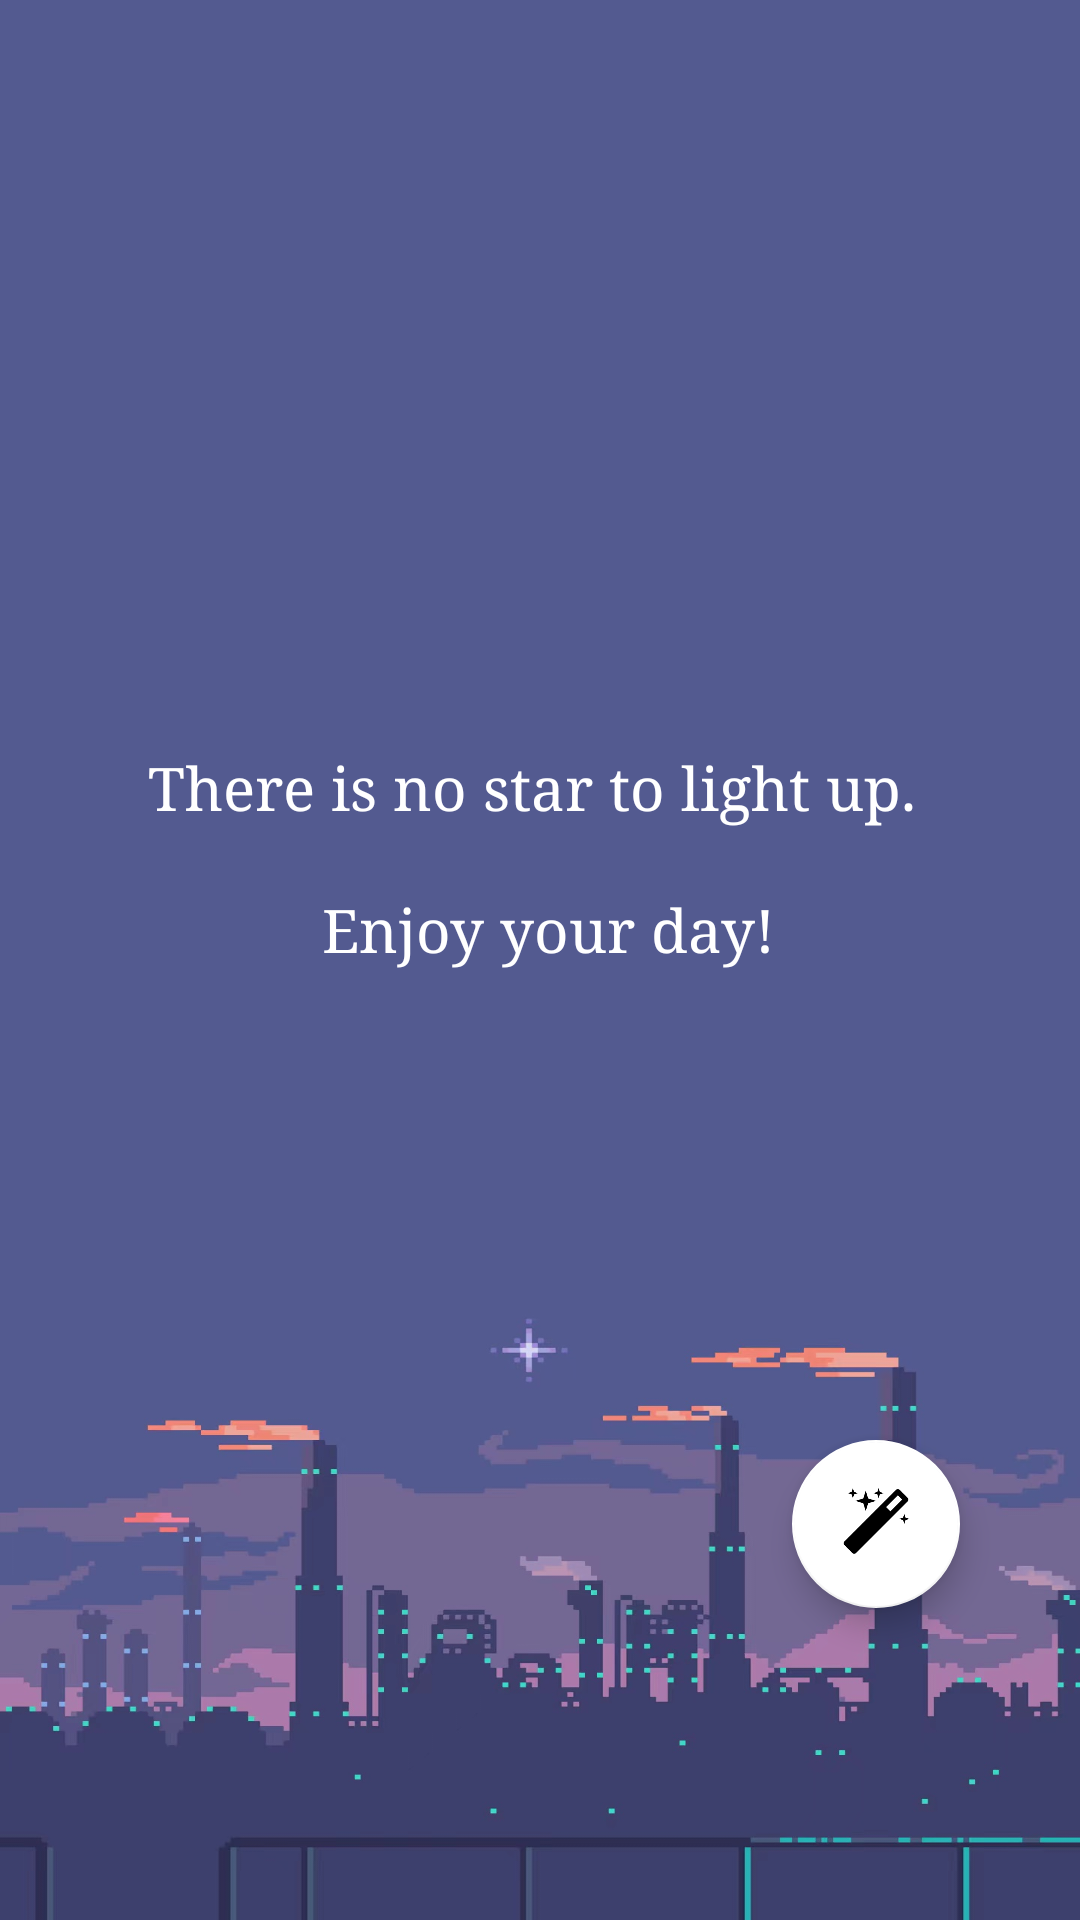

Screen size 1080 × 1920. Icon name, then its center in pixels as [x,y]:
magic: [876,1524]
